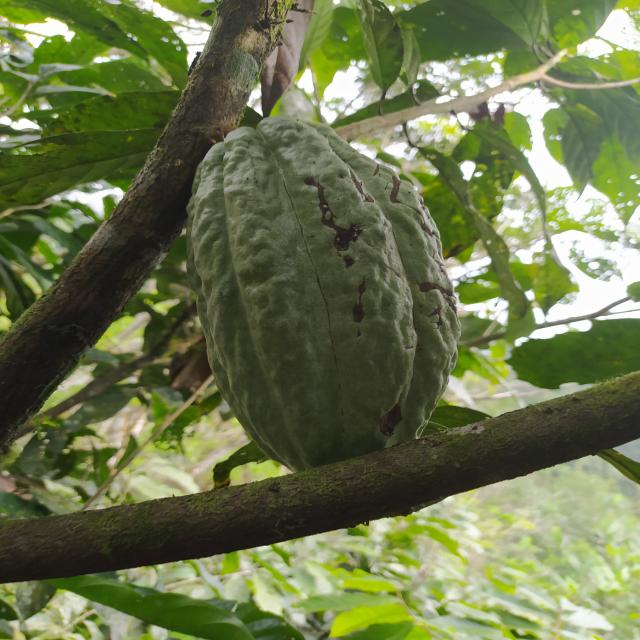Sana: (184, 115, 464, 480)
